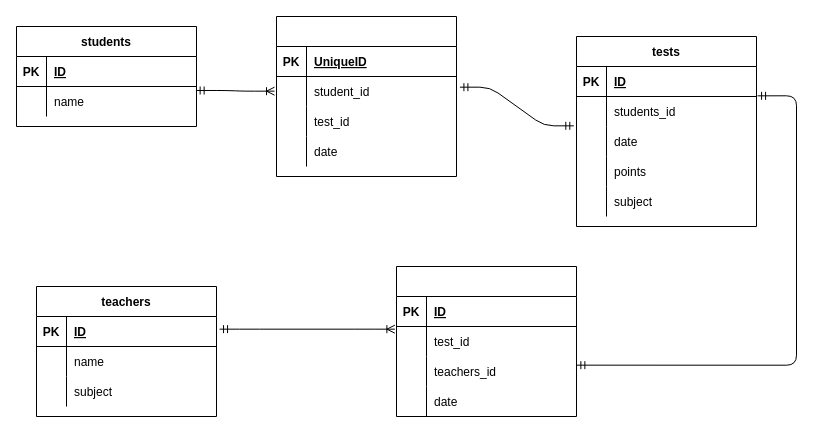
This 813x433 diagram has some shape labels left out. Here are the shapes that lost their labels. From the top down, the box of each, then its label:
(276, 16, 456, 176): entry
(396, 266, 576, 416): coment&scoring
